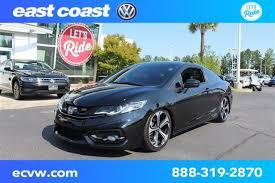car: (49, 57, 237, 148), (49, 57, 237, 143), (0, 56, 68, 99)
